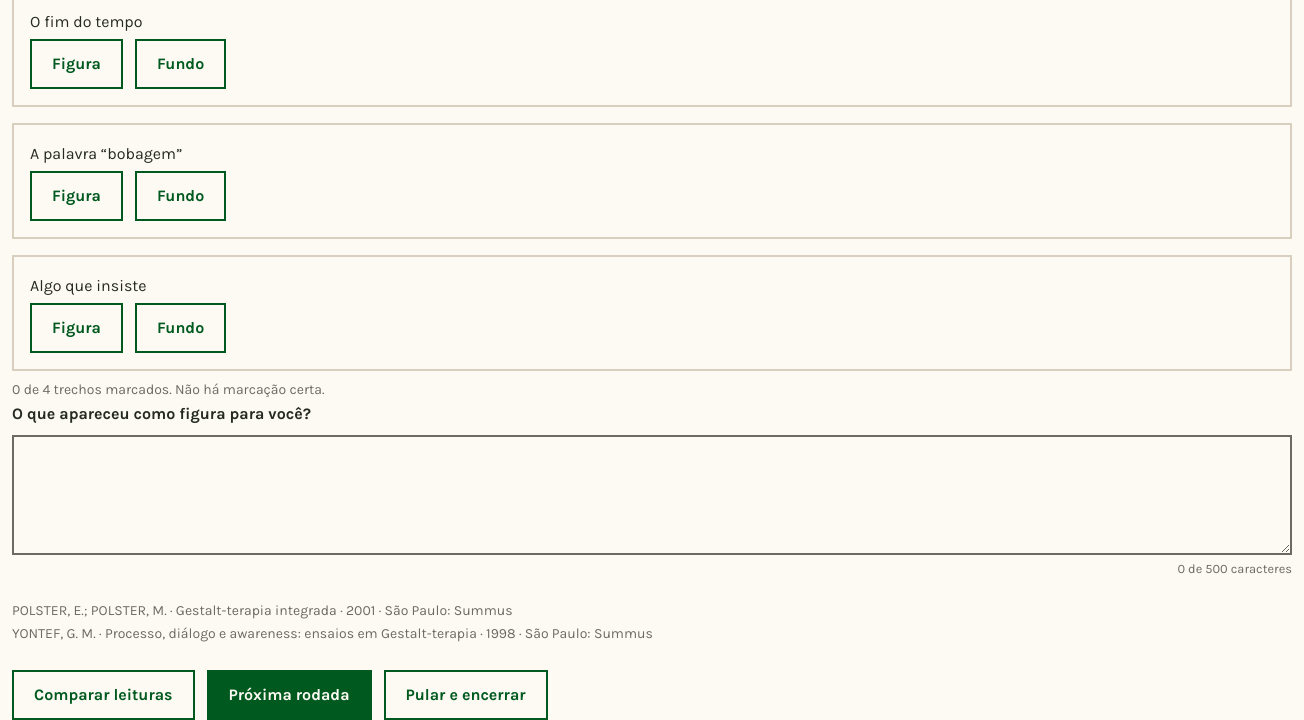
Test: Figura na sessão: cada trecho é marcado como figura ou fundo
(page scrolled)
Click the button "Próxima rodada".
click(289, 694)  # box x1=206 y1=670 x2=372 y2=719
(page scrolled)
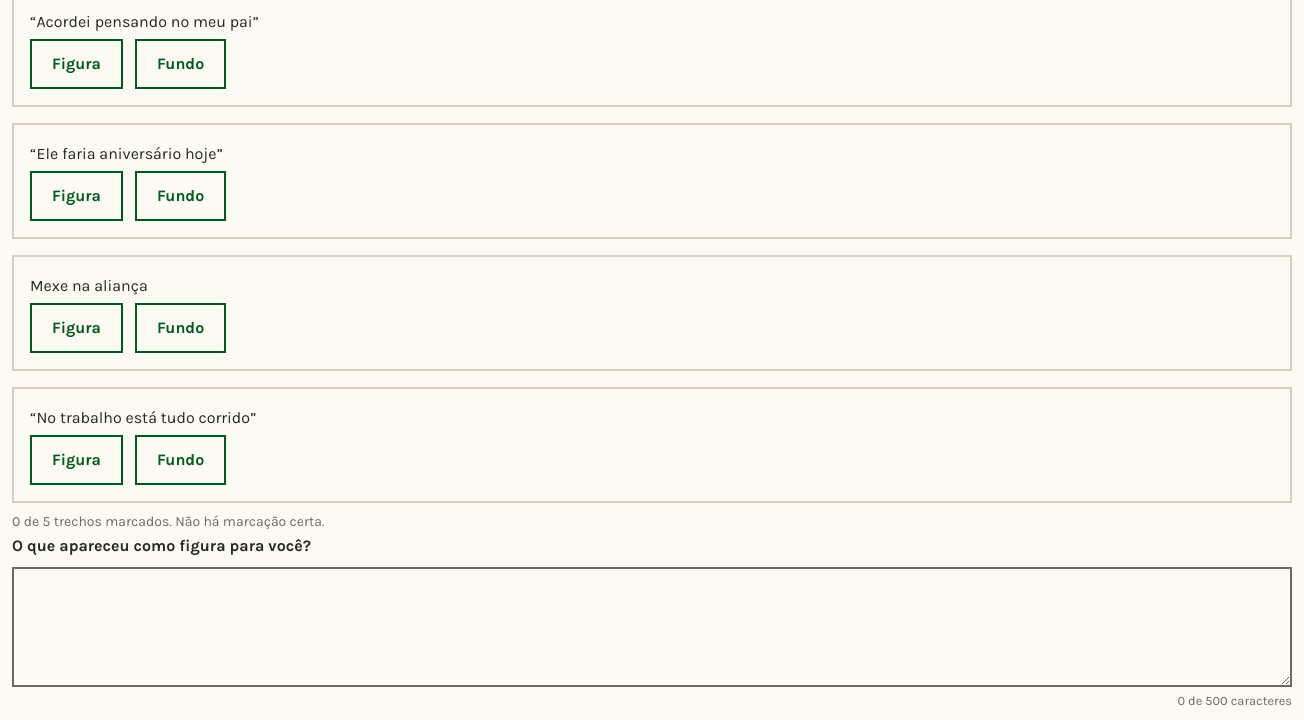
Click the button "Figura" below "“Ele faria aniversário hoje”".
click(76, 196)  # box x1=30 y1=170 x2=123 y2=220
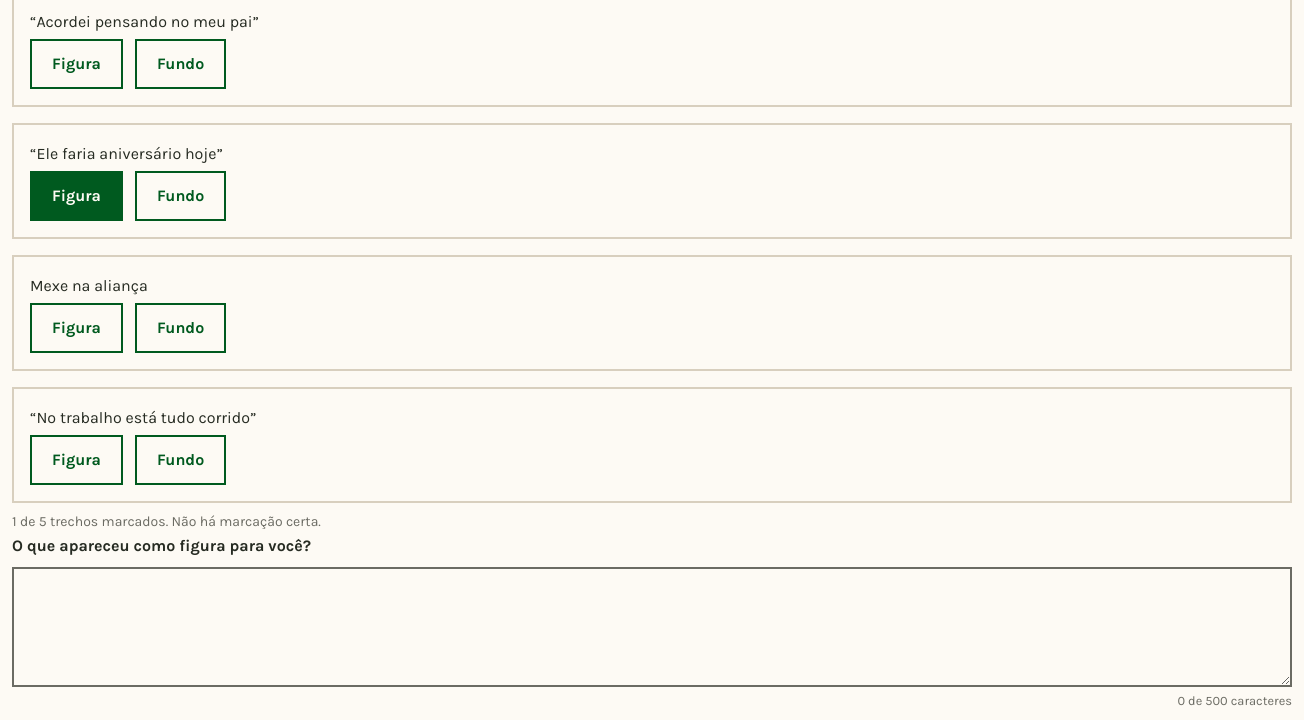
Expected: the text "1 de 5 trechos marcados. Não há marcação certa." is shown, x1=12 y1=512 x2=321 y2=530
